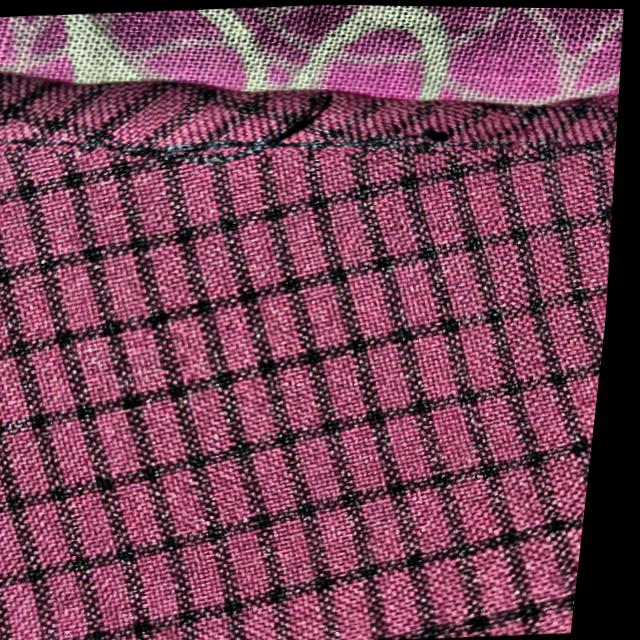Stitch: (3, 102, 462, 208)
